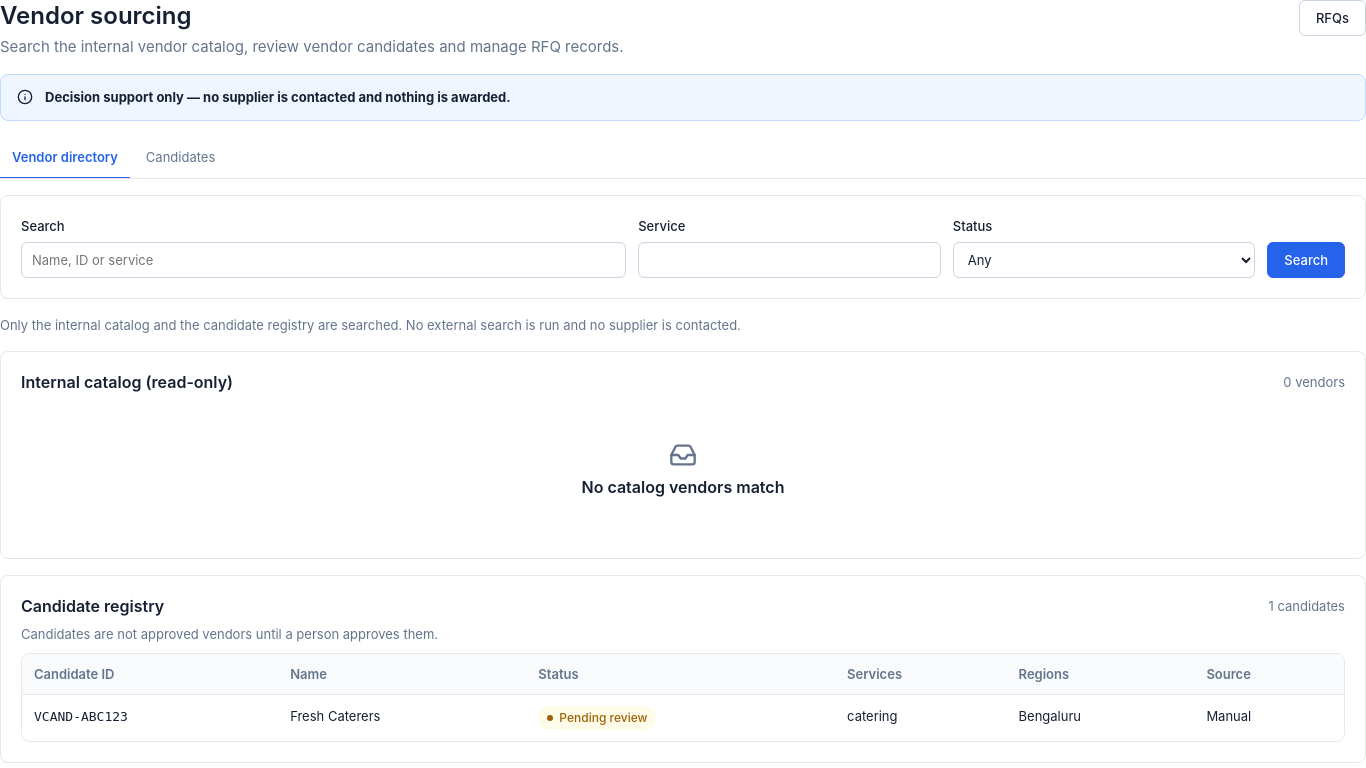
VendorSourcingPage — allowed_decisions › offers only the decisions the server lists
Click the tab "Candidates" at (181, 158), box left=134, top=137, right=227, bottom=179
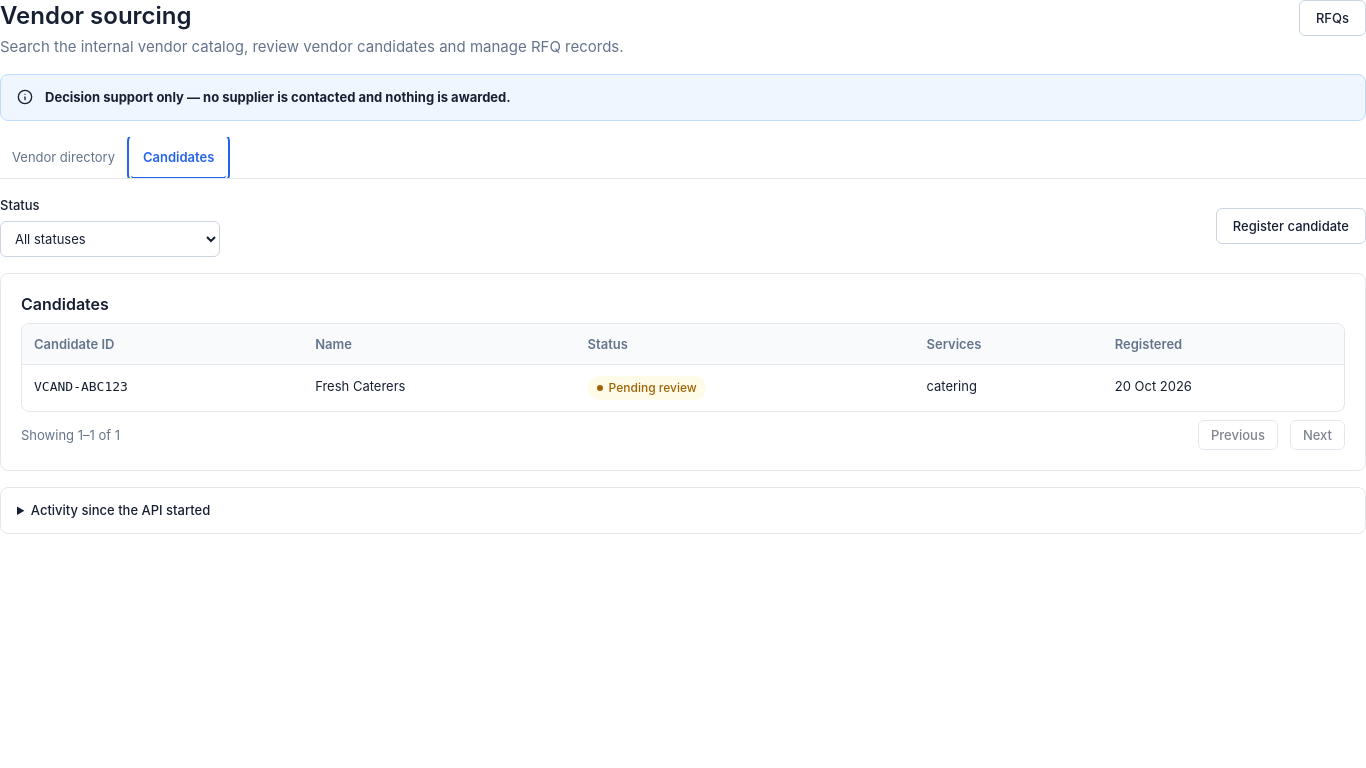
Click the text "Fresh Caterers" at (360, 386), box left=303, top=365, right=576, bottom=411
(page scrolled)
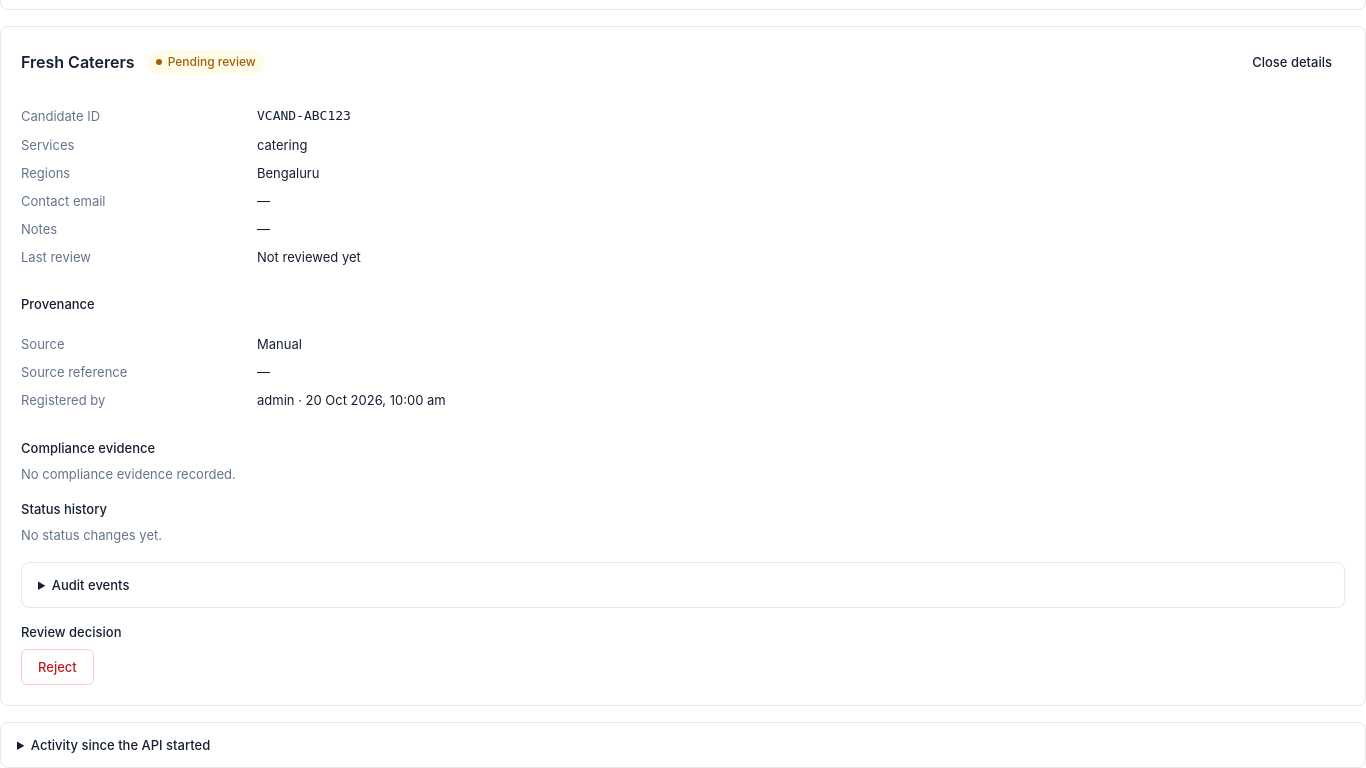
Expected: the text "approve" is not shown
Now the button "Reject" is shown, box left=21, top=649, right=94, bottom=685
